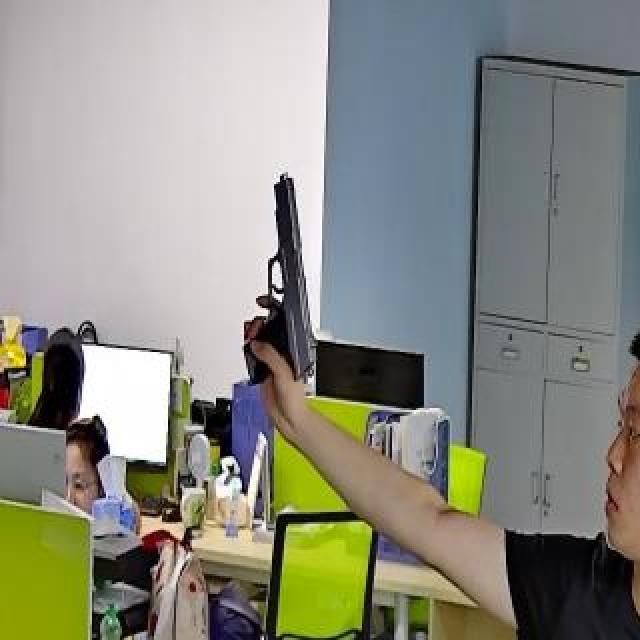Guns: (214, 134, 356, 428)
